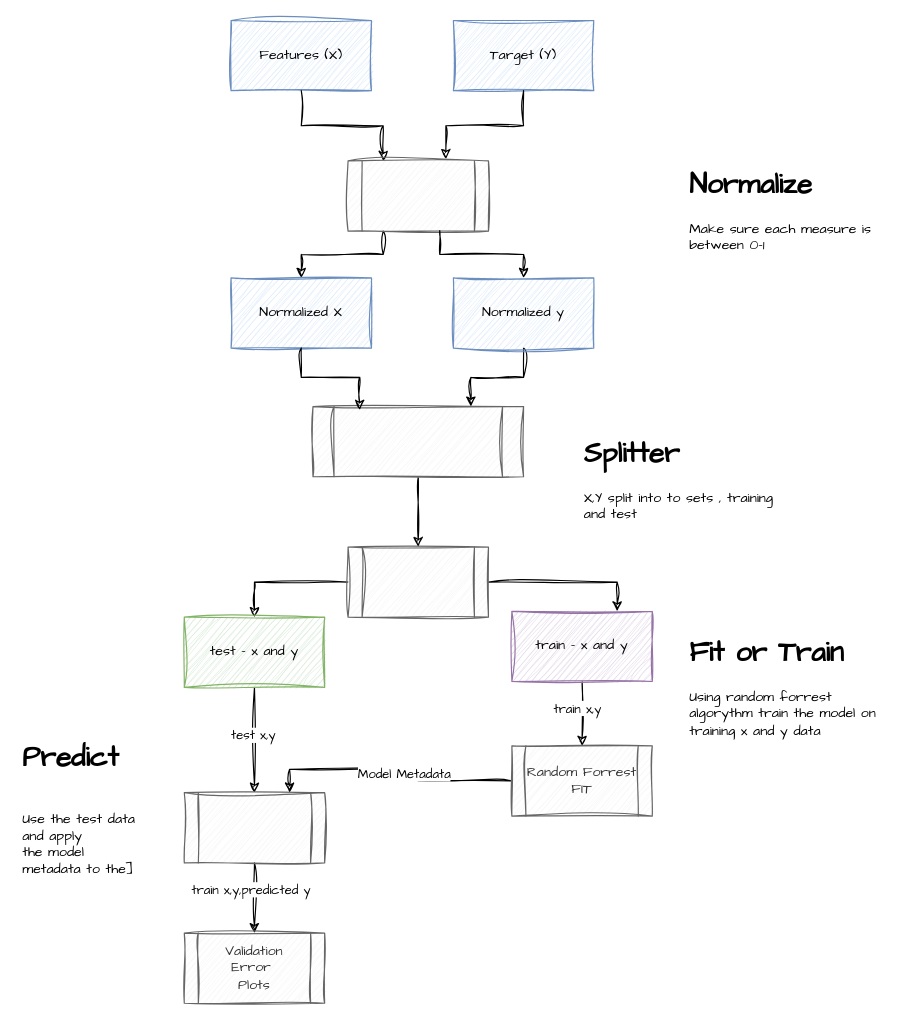
Image size: 917x1024. Some labels were removed from this diagram. Each missing label, with the centre of its shape:
"Filter Remove low output targets ( nighttime)" goes at pixel 418 441.
"Normalize Min-Max" goes at pixel 417 195.
"Random Forrest predict" goes at pixel 254 827.
"Splitter" goes at pixel 417 581.
